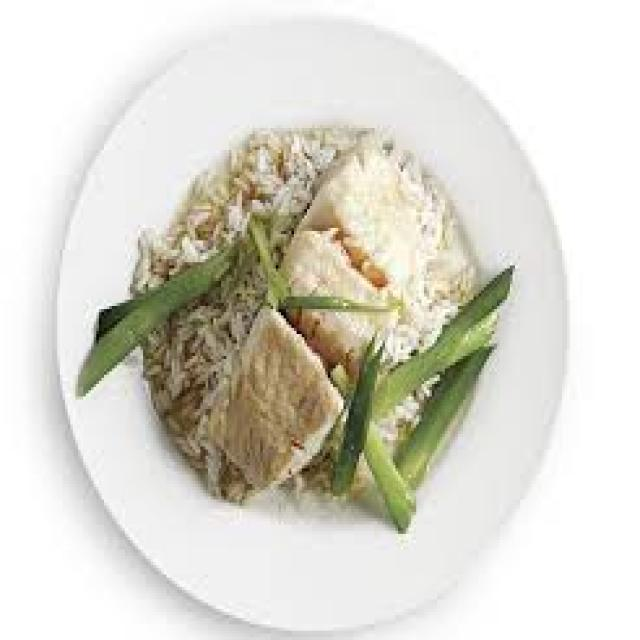Fish: (208, 137, 421, 481)
Green veg: (330, 265, 513, 528), (75, 247, 237, 393)
Rice: (130, 131, 367, 290), (143, 259, 263, 484), (388, 172, 476, 362), (380, 375, 437, 443)
